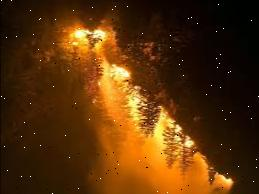fire: (50, 25, 198, 161)
